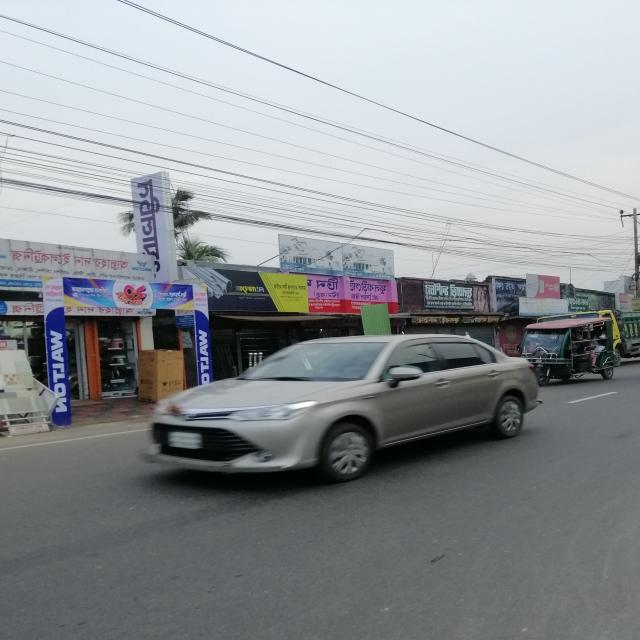Car: (128, 307, 545, 509)
Easybike: (502, 307, 640, 403)
